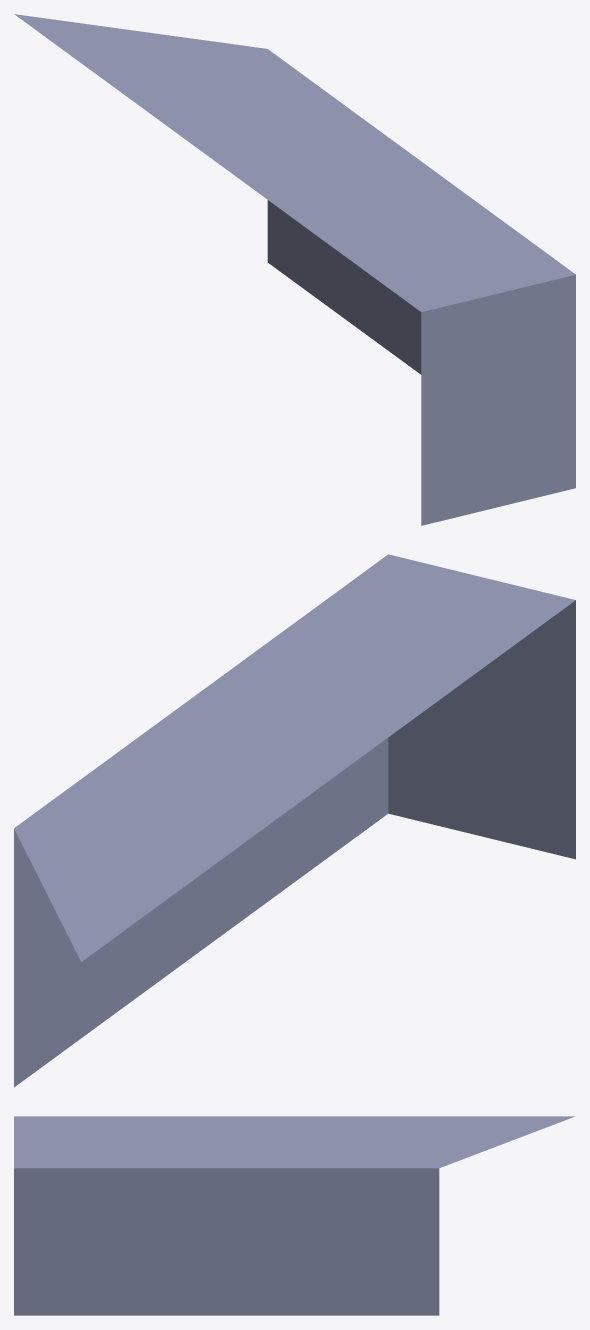
The model's file is PoolSide.fbx.
3 renders of one model, top to bottom at view 1: azimuth 30°, elevation 25°; view 2: azimuth 150°, elevation 25°; view 3: azimuth 270°, elevation 25°, orthographic. The views are drawn at different scales.
Visible parts, largest first — view 1: Pool Side.006; view 2: Pool Side.006; view 3: Pool Side.006.
Boxes of the visible parts, x1=… form: Pool Side.006: x1=14, y1=14, x2=575, y2=525; Pool Side.006: x1=14, y1=554, x2=575, y2=1087; Pool Side.006: x1=14, y1=1116, x2=575, y2=1315.
Size of the model in its own units: 102 by 134 by 465.
